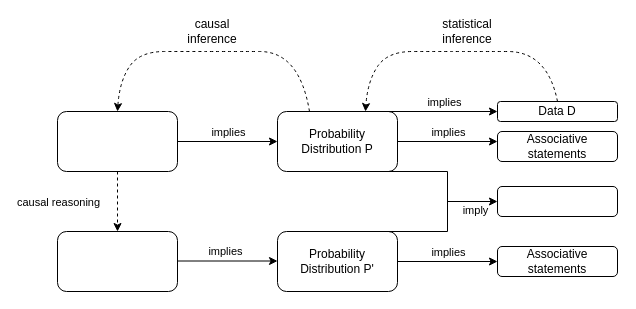
Image size: 636x309. Some labels were removed from this diagram. The centre of each missing label's shape, as x and y in pixels:
"Counterfactual statements" goes at point 557,201.
"intervention on G implies Structural Causal Model G'" goes at point 117,261.
"Structural Causal Model G" goes at point 117,141.
